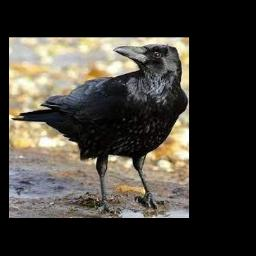Crow: (11, 44, 188, 214)
